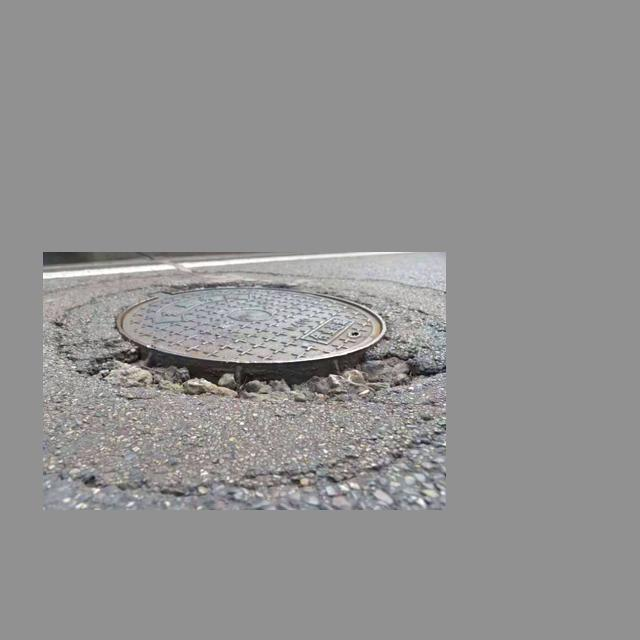circle: (54, 271, 440, 428)
